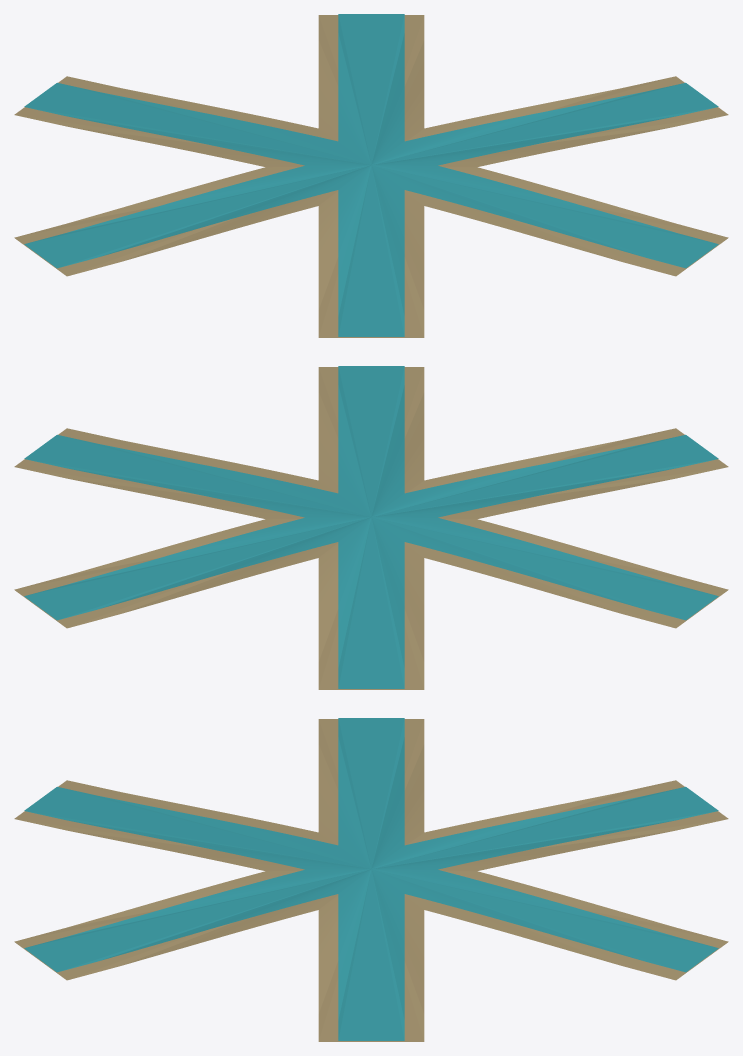
File: RIVER_63.fbx
3 renders of one model, top to bottom at view 1: azimuth 30°, elevation 25°; view 2: azimuth 150°, elevation 25°; view 3: azimuth 270°, elevation 25°, orthographic.
Parts seen in each view (by area): view 1: Channel_surface.025, Channel_surface.024; view 2: Channel_surface.025, Channel_surface.024; view 3: Channel_surface.025, Channel_surface.024.
Boxes of the visible parts, box(x1,y1,x2,y2) form: Channel_surface.025: box(24, 14, 718, 336); Channel_surface.024: box(14, 15, 728, 337); Channel_surface.025: box(24, 366, 718, 688); Channel_surface.024: box(14, 367, 728, 689); Channel_surface.025: box(24, 718, 718, 1040); Channel_surface.024: box(14, 719, 728, 1041).
Size of the model in its own units: 173 by 2.8 by 162.
